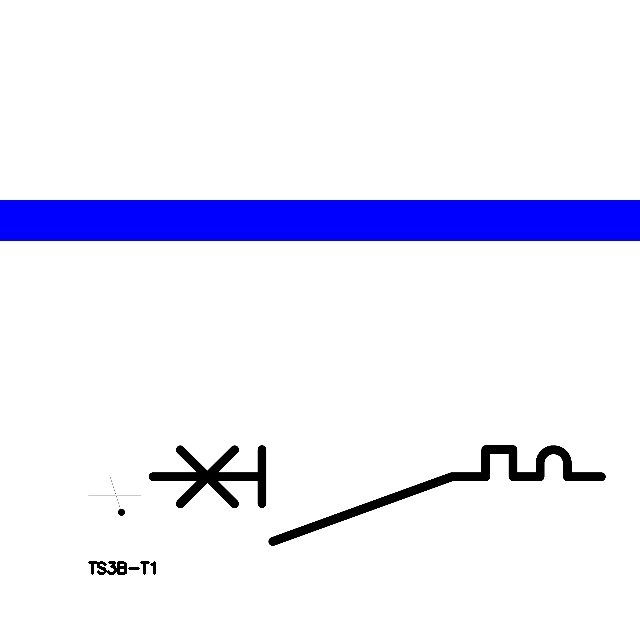interruptor_termomagnetico: (141, 438, 613, 553)
